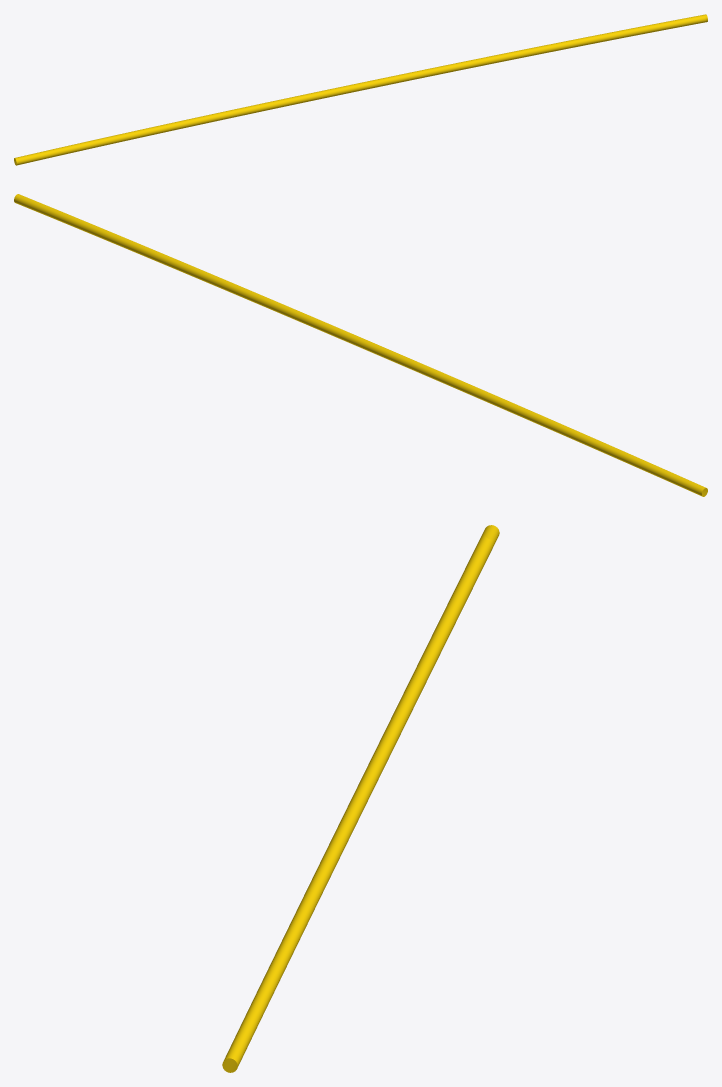
File: Event_420107950_track_29.fbx
The picture shows the model from 3 angles, top to bottom: view 1: azimuth 30°, elevation 25°; view 2: azimuth 150°, elevation 25°; view 3: azimuth 270°, elevation 25°; orthographic projection. The views are drawn at different scales.
Visible parts, largest first — view 1: Model; view 2: Model; view 3: Model.
Part boxes in pixels (x1,y1,x2,y2): Model: (14,14,707,165); Model: (14,194,707,496); Model: (222,525,499,1072).
Bounding box in the file's own units: 3.69 × 0.2582 × 0.7066.
